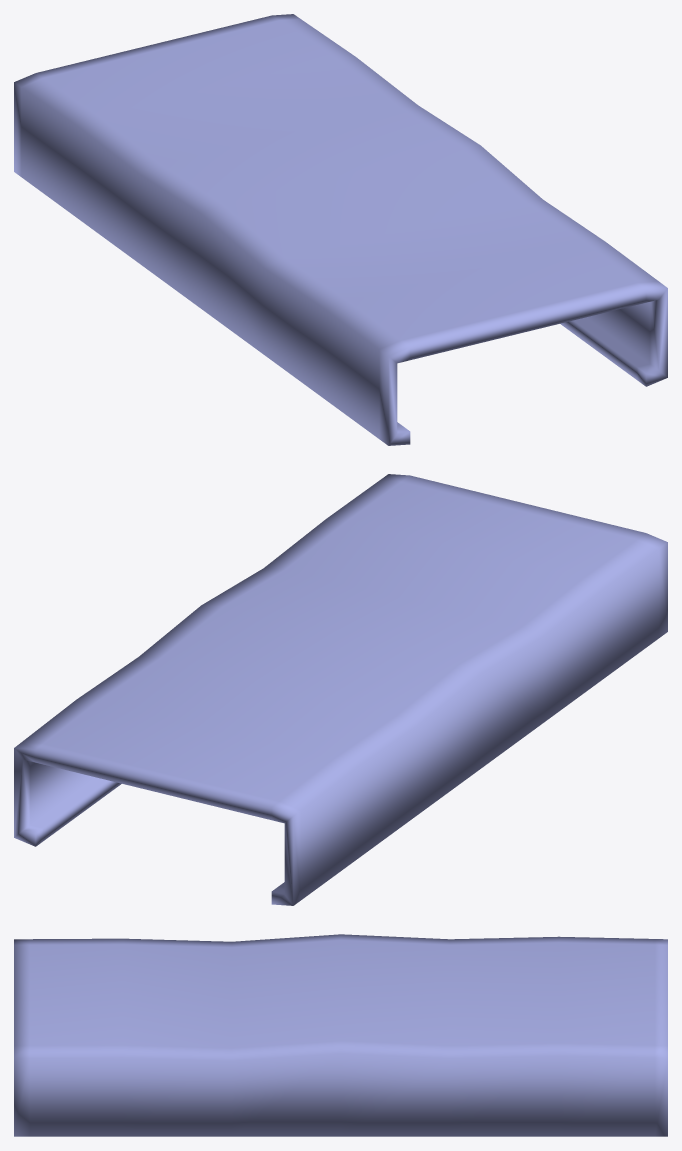
File: blanket.fbx
3 views of the same model, one above another, from view 1: azimuth 30°, elevation 25°; view 2: azimuth 150°, elevation 25°; view 3: azimuth 270°, elevation 25° (orthographic). The views are drawn at different scales.
Visible parts, largest first — view 1: Cube.001; view 2: Cube.001; view 3: Cube.001.
Part boxes in pixels (<box>): Cube.001: <box>14,14,667,445</box>; Cube.001: <box>14,474,667,905</box>; Cube.001: <box>14,934,667,1136</box>.
Bounding box in the file's own units: 268 × 94.32 × 622.
